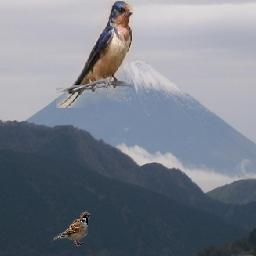Sparrow: (52, 210, 91, 246)
Swallow: (57, 2, 134, 109)
